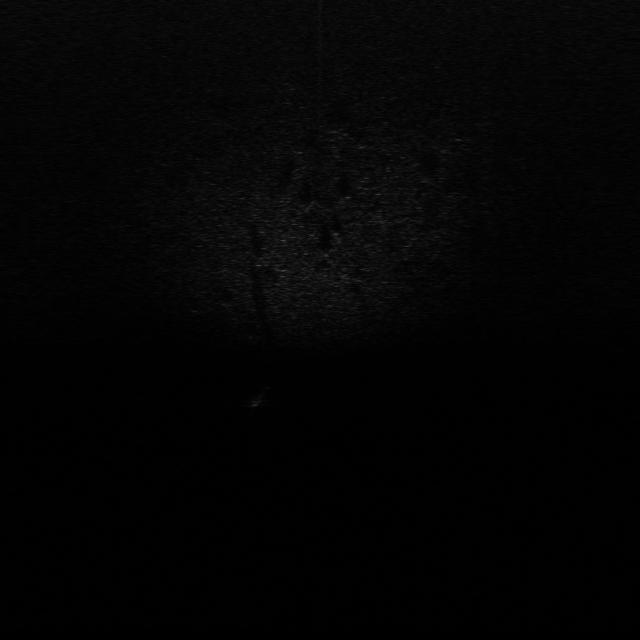human body: (246, 383, 278, 419)
